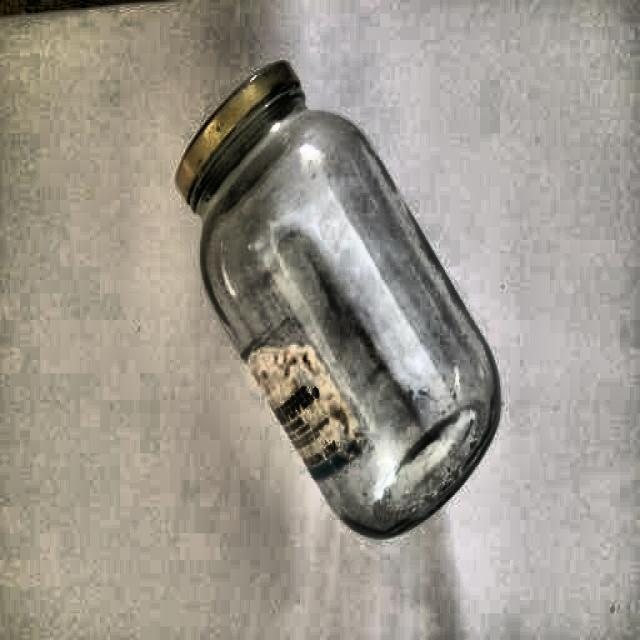glass: (175, 58, 508, 543)
